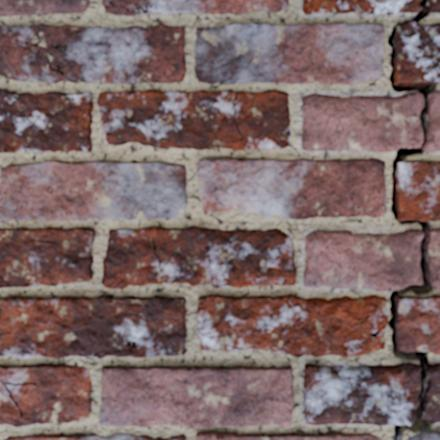brick: (102, 227, 295, 288), (101, 366, 292, 427), (197, 295, 387, 356), (0, 295, 186, 357), (195, 23, 384, 83), (197, 158, 386, 218), (98, 90, 289, 149), (0, 24, 185, 83), (0, 162, 186, 220), (0, 90, 92, 152), (0, 364, 90, 426), (0, 228, 94, 286), (395, 23, 439, 82), (396, 296, 439, 354), (397, 162, 439, 220), (112, 0, 288, 13), (196, 431, 380, 439), (0, 0, 88, 15), (5, 433, 185, 439), (103, 0, 135, 15), (408, 430, 439, 439)
broken_brick: (301, 91, 422, 153), (303, 362, 419, 426), (302, 229, 421, 291), (301, 0, 419, 15), (422, 363, 439, 425), (426, 90, 439, 152), (431, 227, 439, 290), (430, 0, 439, 13)
crack: (369, 0, 437, 439), (0, 380, 36, 418), (217, 92, 243, 141), (0, 230, 59, 246), (99, 295, 149, 307), (108, 0, 153, 13)
